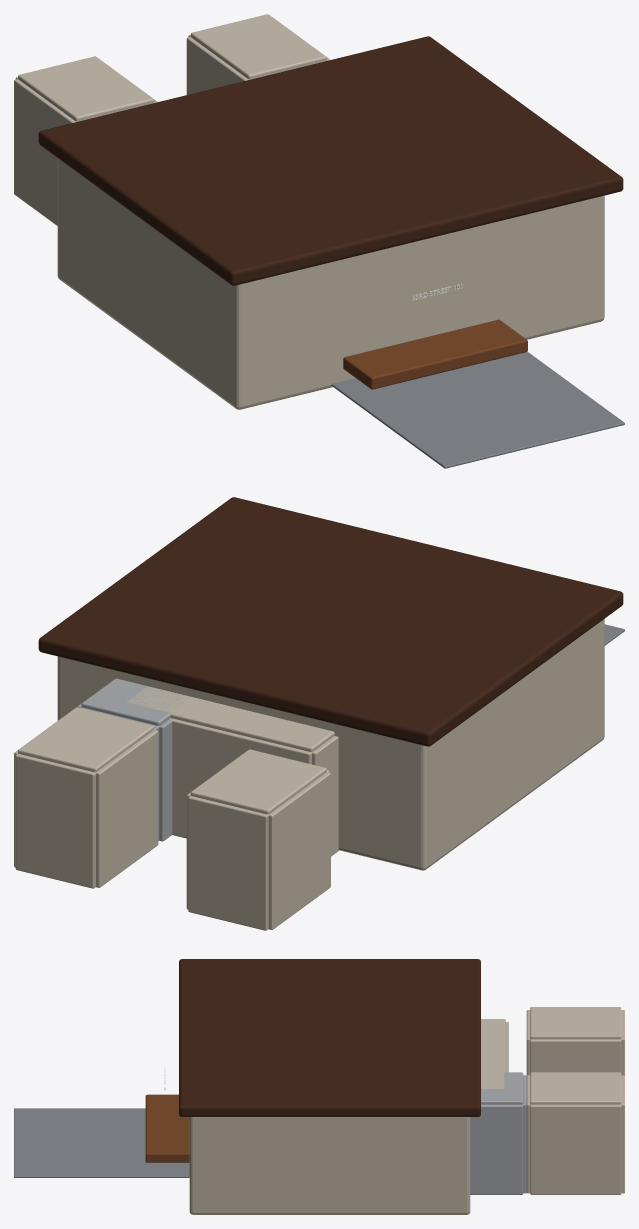
File: BHC_BLD_63RD_HOUSE_010.glb
3 views of the same model, one above another, from view 1: azimuth 30°, elevation 25°; view 2: azimuth 150°, elevation 25°; view 3: azimuth 270°, elevation 25° (orthographic). The views are drawn at different scales.
Visible parts, largest first — view 1: SM_BHC_63rd_House_010_Roof, SM_BHC_63rd_House_010_Exterior, SM_BHC_63rd_House_010_Driveway, SM_BHC_63rd_House_010_Porch, SM_BHC_63rd_House_010_BedroomA_Ceiling, SM_BHC_63rd_House_010_BedroomB_Ceiling, SM_BHC_63rd_House_010_BedroomA_Wall_W, SM_BHC_63rd_House_010_BedroomB_Wall_W; view 2: SM_BHC_63rd_House_010_Roof, SM_BHC_63rd_House_010_Exterior, SM_BHC_63rd_House_010_BedroomA_Wall_N, SM_BHC_63rd_House_010_BedroomB_Wall_N, SM_BHC_63rd_House_010_BedroomA_Wall_W, SM_BHC_63rd_House_010_BedroomB_Wall_W, SM_BHC_63rd_House_010_Living_Wall_N, SM_BHC_63rd_House_010_BedroomA_Ceiling, SM_BHC_63rd_House_010_BedroomB_Ceiling, SM_BHC_63rd_House_010_Living_Ceiling, SM_BHC_63rd_House_010_Bath_Ceiling, SM_BHC_63rd_House_010_Bath_Wall_W (+1 smaller); view 3: SM_BHC_63rd_House_010_Roof, SM_BHC_63rd_House_010_Exterior, SM_BHC_63rd_House_010_Driveway, SM_BHC_63rd_House_010_BedroomB_Wall_E, SM_BHC_63rd_House_010_Bath_Wall_E, SM_BHC_63rd_House_010_BedroomA_Wall_E, SM_BHC_63rd_House_010_BedroomA_Ceiling, SM_BHC_63rd_House_010_BedroomB_Ceiling, SM_BHC_63rd_House_010_Porch, SM_BHC_63rd_House_010_Living_Ceiling, SM_BHC_63rd_House_010_Bath_Ceiling, SM_BHC_63rd_House_010_BedroomB_Wall_S (+2 smaller).
Part boxes in pixels (x1,y1,x2,y2): SM_BHC_63rd_House_010_Roof: (38,36,623,285); SM_BHC_63rd_House_010_Exterior: (57,158,604,409); SM_BHC_63rd_House_010_Driveway: (331,351,624,468); SM_BHC_63rd_House_010_Porch: (343,319,527,389); SM_BHC_63rd_House_010_BedroomA_Ceiling: (18,56,154,121); SM_BHC_63rd_House_010_BedroomB_Ceiling: (190,14,326,79); SM_BHC_63rd_House_010_BedroomA_Wall_W: (14,79,76,225); SM_BHC_63rd_House_010_BedroomB_Wall_W: (186,37,248,94); SM_BHC_63rd_House_010_Roof: (38,497,623,746); SM_BHC_63rd_House_010_Exterior: (57,619,604,870); SM_BHC_63rd_House_010_BedroomA_Wall_N: (188,796,268,930); SM_BHC_63rd_House_010_BedroomB_Wall_N: (15,753,95,888); SM_BHC_63rd_House_010_BedroomA_Wall_W: (268,772,330,929); SM_BHC_63rd_House_010_BedroomB_Wall_W: (96,730,158,887); SM_BHC_63rd_House_010_Living_Wall_N: (170,718,311,838); SM_BHC_63rd_House_010_BedroomA_Ceiling: (190,749,326,814); SM_BHC_63rd_House_010_BedroomB_Ceiling: (18,707,154,772); SM_BHC_63rd_House_010_Living_Ceiling: (126,686,334,752); SM_BHC_63rd_House_010_Bath_Ceiling: (81,678,188,725); SM_BHC_63rd_House_010_Bath_Wall_W: (159,718,172,841); SM_BHC_63rd_House_010_Roof: (179,959,480,1116); SM_BHC_63rd_House_010_Exterior: (189,1117,470,1214); SM_BHC_63rd_House_010_Driveway: (14,1108,189,1177); SM_BHC_63rd_House_010_BedroomB_Wall_E: (530,1104,621,1194); SM_BHC_63rd_House_010_Bath_Wall_E: (470,1104,523,1194); SM_BHC_63rd_House_010_BedroomA_Wall_E: (530,1039,621,1072); SM_BHC_63rd_House_010_BedroomA_Ceiling: (530,1007,621,1039); SM_BHC_63rd_House_010_BedroomB_Ceiling: (530,1072,621,1104); SM_BHC_63rd_House_010_Porch: (145,1094,189,1162); SM_BHC_63rd_House_010_Living_Ceiling: (481,1019,505,1088); SM_BHC_63rd_House_010_Bath_Ceiling: (481,1072,523,1104); SM_BHC_63rd_House_010_BedroomB_Wall_S: (526,1075,530,1193).
Size of the model in its own units: 10 by 3.58 by 17.4.
